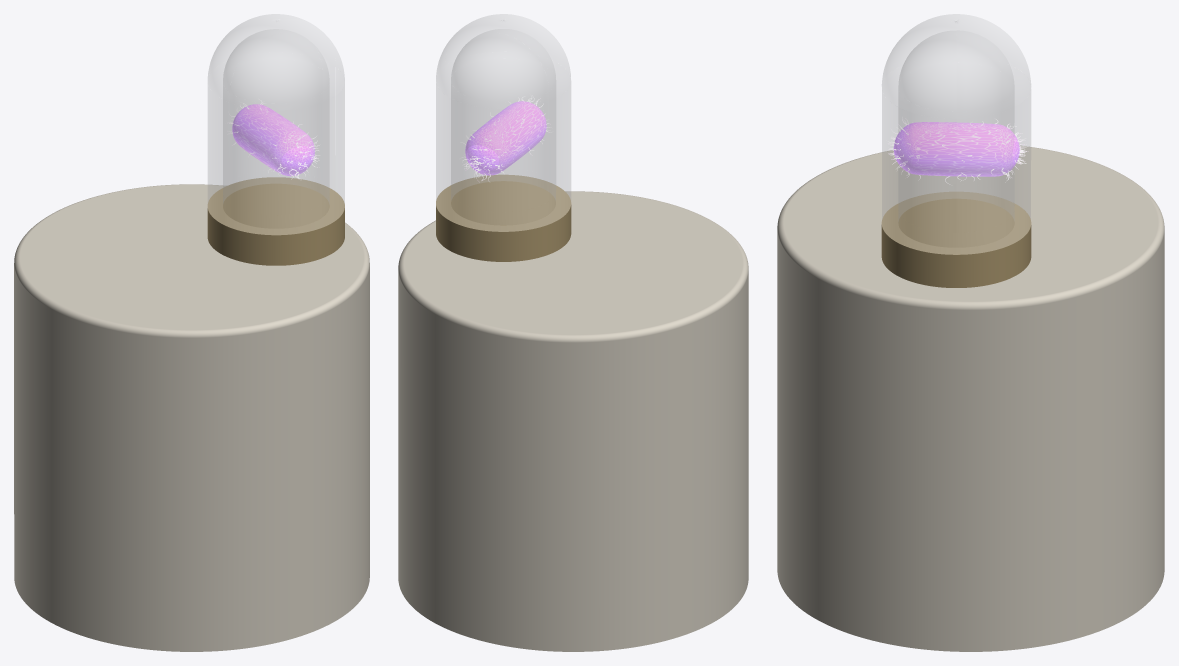
File: bacteria_small_04.glb
3 renders of one model, left to right at view 1: azimuth 30°, elevation 25°; view 2: azimuth 150°, elevation 25°; view 3: azimuth 270°, elevation 25°, orthographic. The views are drawn at different scales.
Visible parts, largest first — view 1: PEANA_Vitrina_3, VITRINA_Campana_3, VITRINA_Base_3, Bacteria_Capsula_Mesh_14; view 2: PEANA_Vitrina_3, VITRINA_Campana_3, VITRINA_Base_3, Bacteria_Capsula_Mesh_14; view 3: PEANA_Vitrina_3, VITRINA_Campana_3, VITRINA_Base_3, Bacteria_Capsula_Mesh_14, Bacteria_Pili_Mesh_14.
Part boxes in pixels (box(x1,y1,x2,y2)): PEANA_Vitrina_3: box(14, 184, 369, 651); VITRINA_Campana_3: box(208, 14, 344, 234); VITRINA_Base_3: box(207, 177, 344, 265); Bacteria_Capsula_Mesh_14: box(232, 104, 314, 176); PEANA_Vitrina_3: box(398, 191, 748, 651); VITRINA_Campana_3: box(436, 14, 570, 231); VITRINA_Base_3: box(436, 174, 571, 261); Bacteria_Capsula_Mesh_14: box(465, 101, 546, 175); PEANA_Vitrina_3: box(777, 145, 1164, 651); VITRINA_Campana_3: box(882, 14, 1030, 254); VITRINA_Base_3: box(881, 191, 1031, 287); Bacteria_Capsula_Mesh_14: box(893, 122, 1019, 176); Bacteria_Pili_Mesh_14: box(887, 117, 1028, 184).
Bounding box in the file's own units: 0.5949 × 1 × 0.5949.
5 materials, 1 textured.
